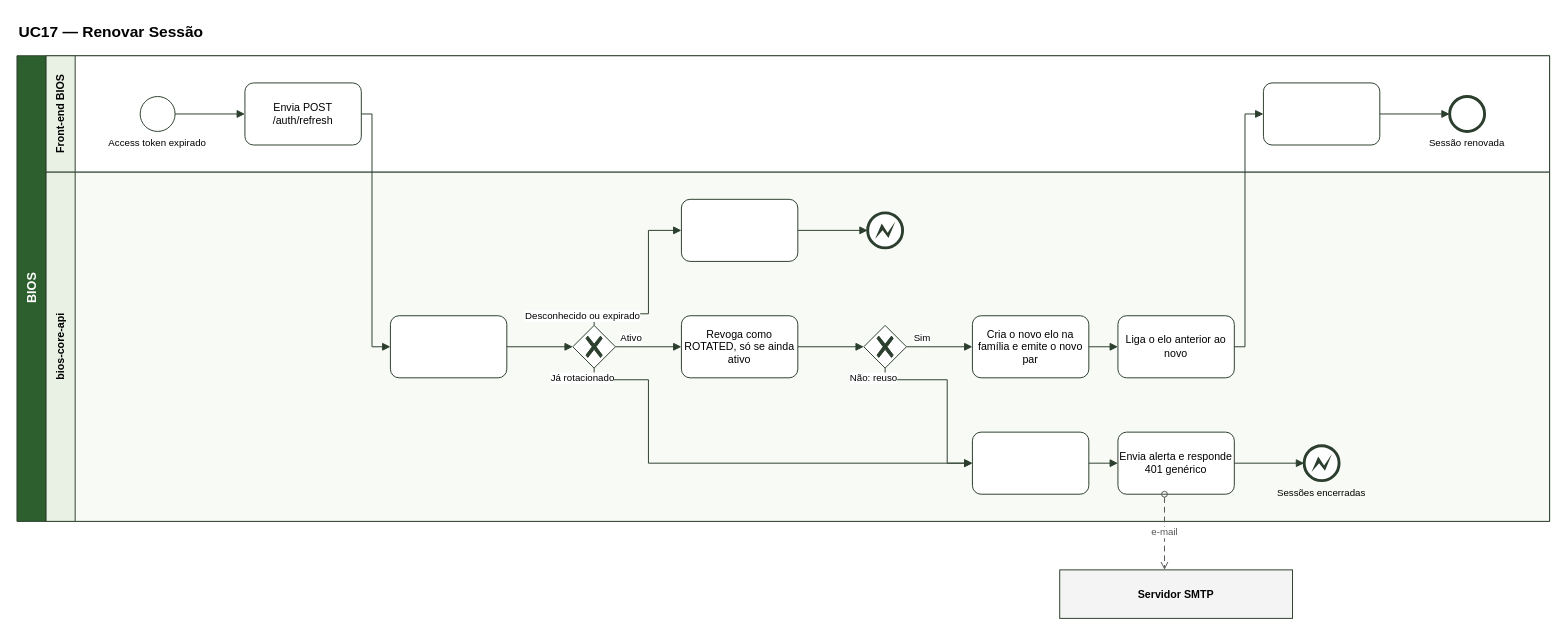
The diagram is 1567 pixels wide and 635 high, and some of its shapes have lost their labels. The centre of each missing label's shape, as x and y in pixels:
"Guarda os tokens e repete a requisição" belongs at point (1321, 113).
"Localiza o elo pelo hash do refresh token" belongs at point (448, 346).
"Novo login (UC02)" belongs at point (885, 230).
"Responde 401 genérico" belongs at point (739, 229).
"Revoga todas as sessões (REUSE_DETECTED)" belongs at point (1030, 462).
"Revogou?" belongs at point (884, 346).
